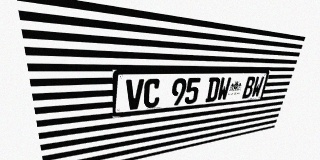5: (184, 78, 201, 104)
9: (170, 78, 187, 106)
B: (242, 76, 256, 98)
C: (143, 78, 161, 108)
D: (205, 77, 221, 102)
V: (125, 79, 144, 110)
W: (216, 77, 232, 101), (250, 76, 264, 98)
